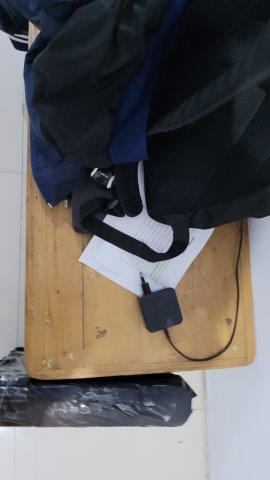kertas: (78, 161, 221, 301)
